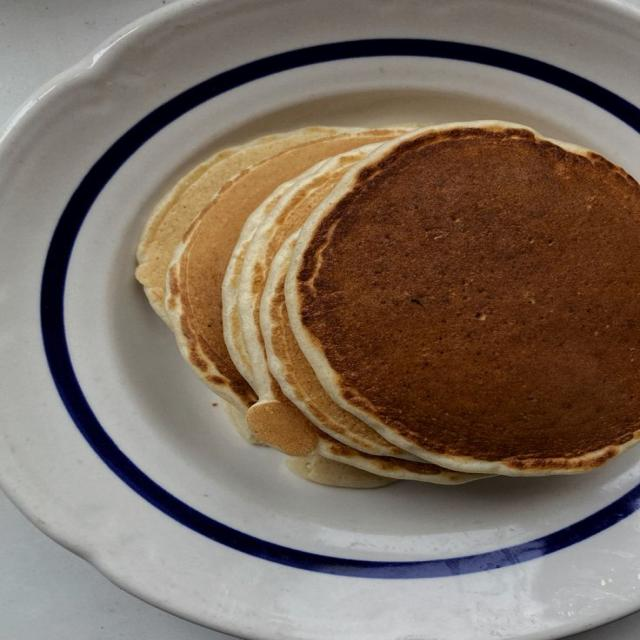pancake: (286, 122, 639, 475), (166, 130, 381, 408), (261, 235, 485, 484), (136, 127, 360, 321), (224, 145, 376, 429), (260, 234, 419, 460), (222, 158, 326, 396), (287, 452, 394, 487), (286, 453, 394, 487)
